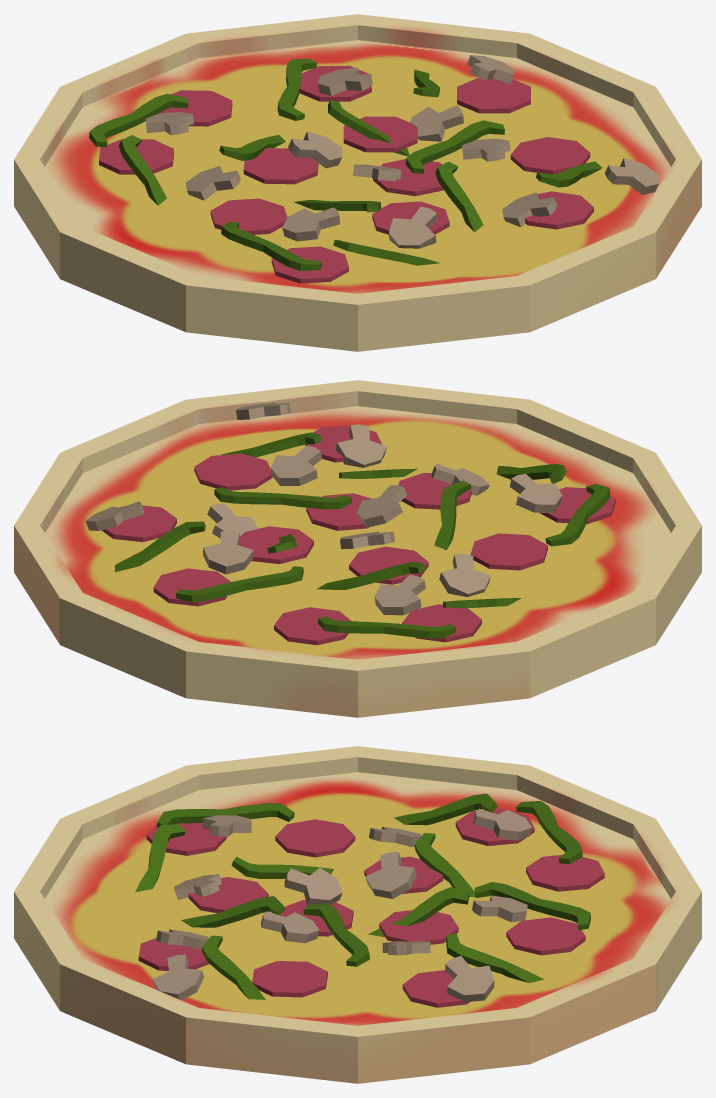
The model's file is RawVegNPepperoni.fbx.
The picture shows the model from 3 angles, top to bottom: view 1: azimuth 30°, elevation 25°; view 2: azimuth 150°, elevation 25°; view 3: azimuth 270°, elevation 25°; orthographic projection.
Visible parts, largest first — view 1: PizzaBase, VeggiesCut.004, PepperoniCut; view 2: PizzaBase, VeggiesCut.004, PepperoniCut; view 3: PizzaBase, VeggiesCut.004, PepperoniCut.
Part boxes in pixels (<box>): PizzaBase: <box>14,14,701,351</box>; VeggiesCut.004: <box>89,55,658,270</box>; PepperoniCut: <box>99,65,593,283</box>; PizzaBase: <box>14,380,701,717</box>; VeggiesCut.004: <box>86,402,610,638</box>; PepperoniCut: <box>102,425,615,645</box>; PizzaBase: <box>14,746,701,1083</box>; VeggiesCut.004: <box>135,793,590,1002</box>; PepperoniCut: <box>138,808,604,1007</box>.
Size of the model in its own units: 200 by 21.9 by 200.
Materials: 4 (1 with a texture image).
